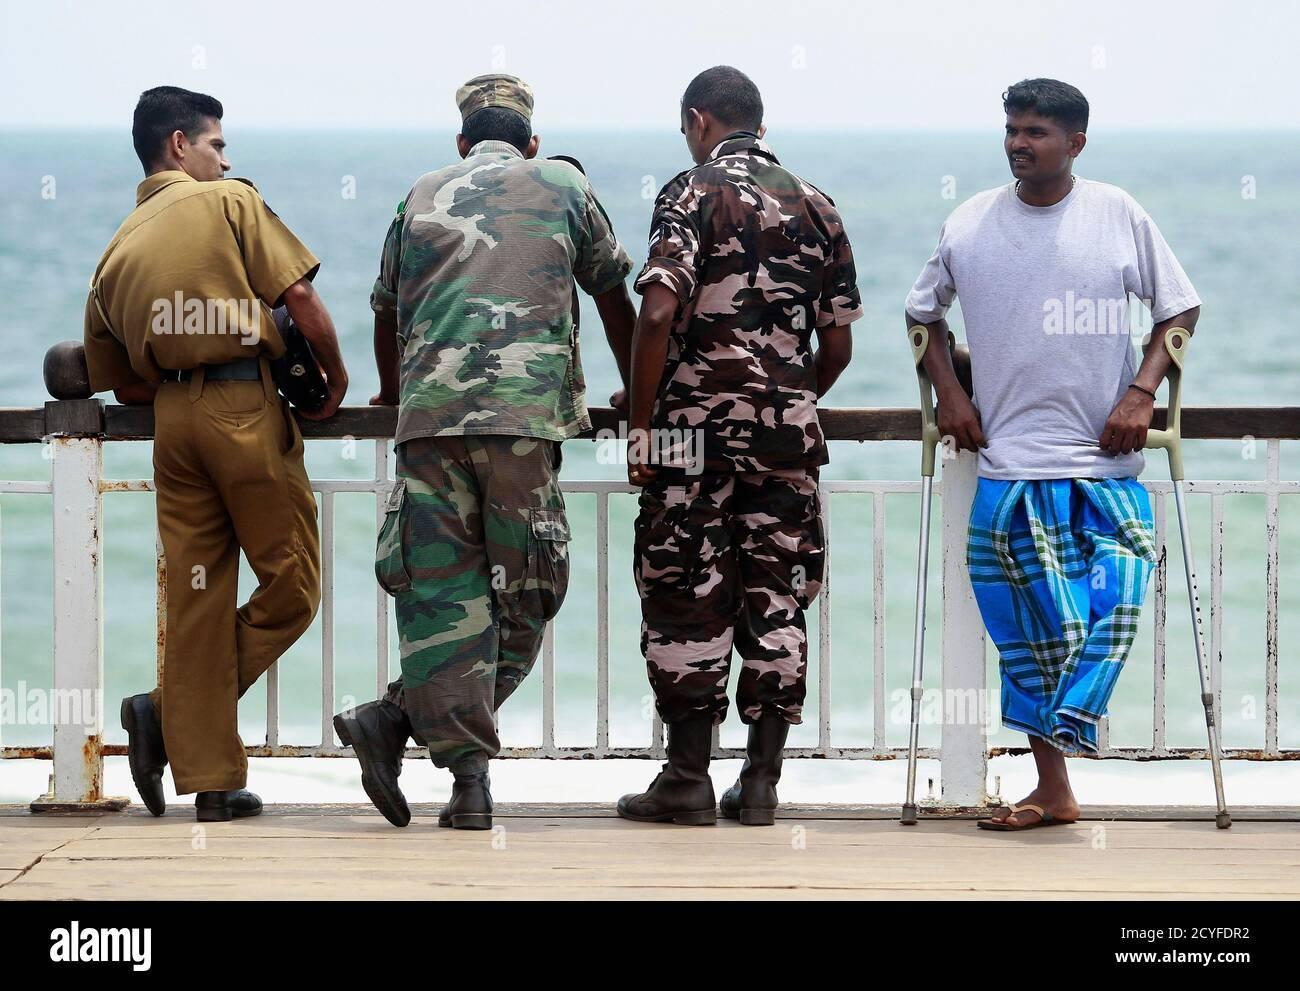crutches: (891, 66, 1242, 852)
